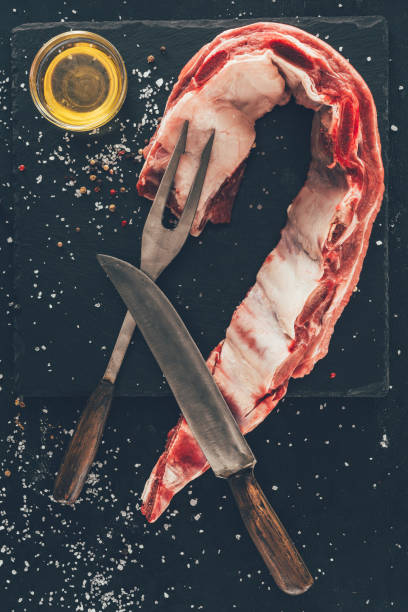knife: (92, 247, 317, 597)
